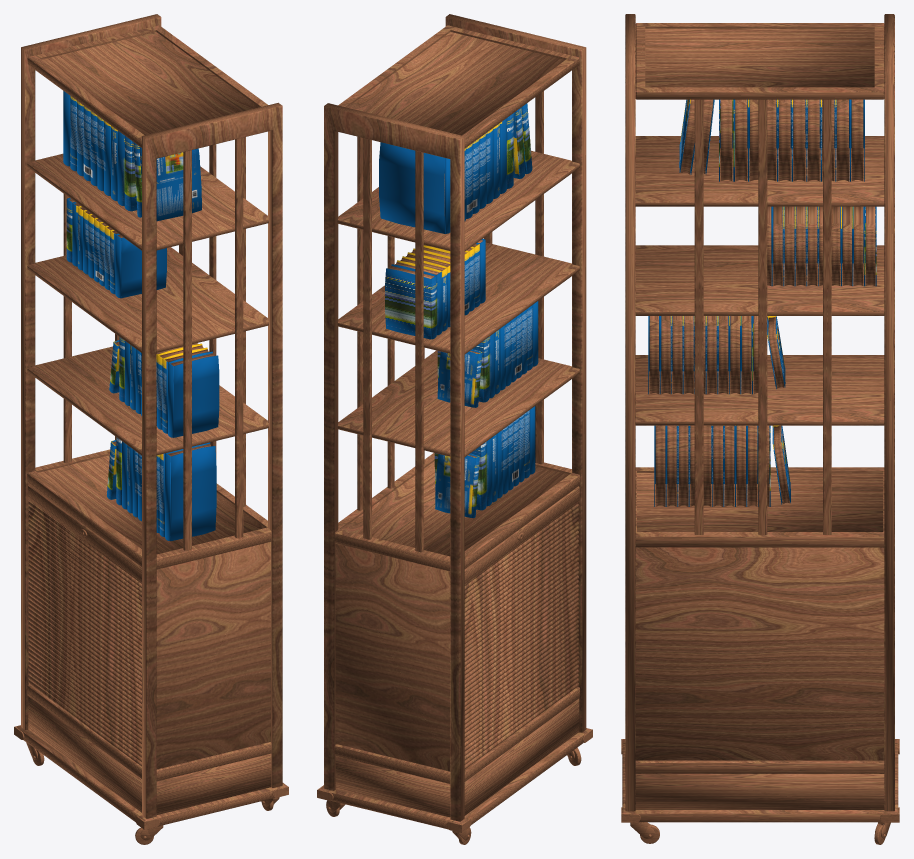
The model's file is reg.obj.
3 views of the same model, side by side, from view 1: azimuth 30°, elevation 25°; view 2: azimuth 150°, elevation 25°; view 3: azimuth 270°, elevation 25° (orthographic). The views are drawn at different scales.
Visible parts, largest first — view 1: Box13, Rectangle02, Rectangle07, Box09, Rectangle01, Box10, Box03, Box02, Box06, Box11, Object109, Object111 (+11 smaller); view 2: Box13, Rectangle01, Rectangle07, Box09, Box03, Rectangle02, Box06, Object113, Box02, Box10, Object117, Box11 (+13 smaller); view 3: Box13, Box09, Box03, Box10, Box06, Object113, Box11, Box02, Rectangle01, Rectangle02, Object109, Object117 (+10 smaller).
Boxes of the visible parts, <box> form: Box13: <box>156,542,270,769</box>; Rectangle02: <box>142,102,282,818</box>; Rectangle07: <box>28,499,141,766</box>; Box09: <box>27,25,268,147</box>; Rectangle01: <box>21,14,161,729</box>; Box10: <box>27,247,268,352</box>; Box03: <box>27,449,271,569</box>; Box02: <box>28,696,271,814</box>; Box06: <box>27,346,268,455</box>; Box11: <box>27,153,268,250</box>; Object109: <box>116,437,216,540</box>; Object111: <box>119,337,219,437</box>; Box13: <box>335,544,450,771</box>; Rectangle01: <box>324,103,464,821</box>; Rectangle07: <box>464,501,578,768</box>; Box09: <box>338,25,579,148</box>; Box03: <box>334,453,579,571</box>; Rectangle02: <box>445,14,586,732</box>; Box06: <box>337,350,579,456</box>; Object113: <box>379,113,513,233</box>; Box02: <box>335,698,579,817</box>; Box10: <box>337,242,579,354</box>; Object117: <box>385,239,485,339</box>; Box11: <box>337,150,579,251</box>; Box13: <box>635,547,884,760</box>; Box09: <box>635,23,884,99</box>; Box03: <box>635,467,884,547</box>; Box10: <box>635,245,884,315</box>; Box06: <box>635,355,884,425</box>; Object113: <box>719,99,864,181</box>; Box11: <box>635,136,884,206</box>; Box02: <box>635,774,884,809</box>; Rectangle01: <box>884,14,894,811</box>; Rectangle02: <box>625,14,635,811</box>; Object109: <box>654,425,770,506</box>; Object117: <box>767,206,876,286</box>.
Size of the model in its own units: 410 by 1916 by 636.
